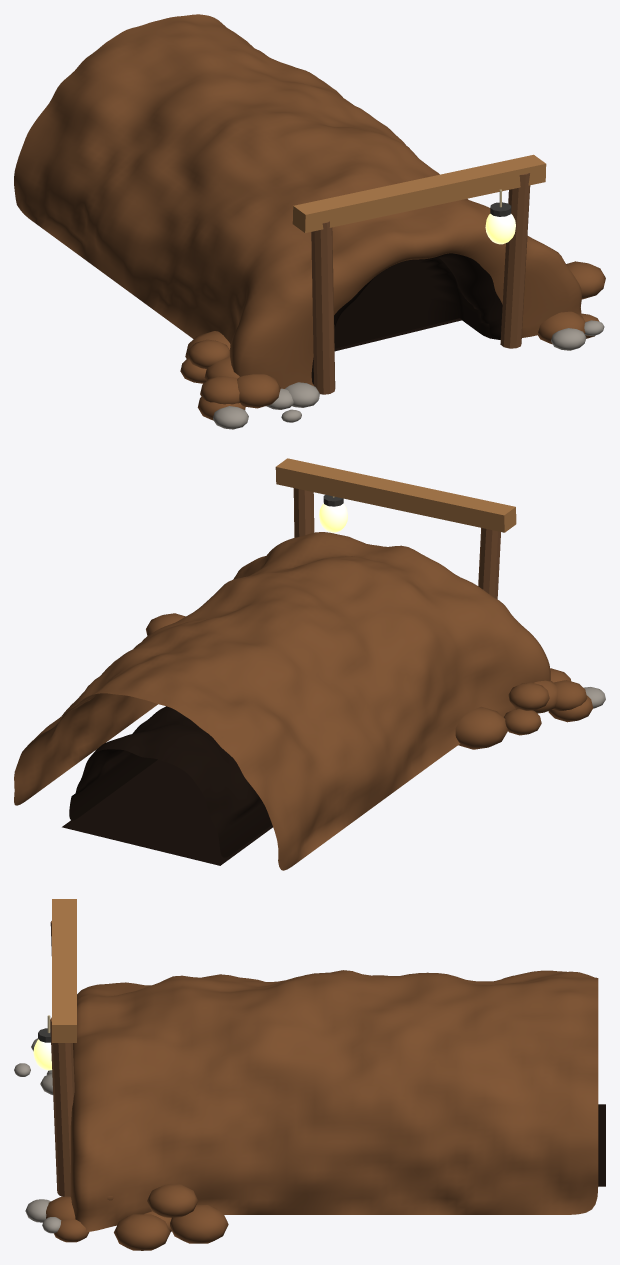
Rendered from docks.glb.
3 renders of one model, top to bottom at view 1: azimuth 30°, elevation 25°; view 2: azimuth 150°, elevation 25°; view 3: azimuth 270°, elevation 25°, orthographic. The views are drawn at different scales.
Parts seen in each view (by area): view 1: dock_mound, dock_frame, dock_stones, dock_lantern; view 2: dock_mound, dock_floor, dock_frame, dock_lantern; view 3: dock_mound, dock_frame, dock_stones, dock_lantern, dock_floor.
Part boxes in pixels (x1,y1,x2,y2): dock_mound: [14, 14, 605, 420]; dock_frame: [292, 154, 546, 394]; dock_stones: [213, 320, 604, 429]; dock_lantern: [485, 189, 515, 244]; dock_mound: [14, 532, 592, 870]; dock_floor: [62, 759, 272, 865]; dock_frame: [275, 458, 516, 599]; dock_lantern: [319, 494, 347, 532]; dock_mound: [46, 970, 598, 1250]; dock_frame: [50, 899, 76, 1196]; dock_stones: [14, 1038, 61, 1233]; dock_lantern: [33, 1015, 52, 1070]; dock_floor: [598, 1104, 605, 1186].
Size of the model in its own units: 3.23 by 1.45 by 3.81.
